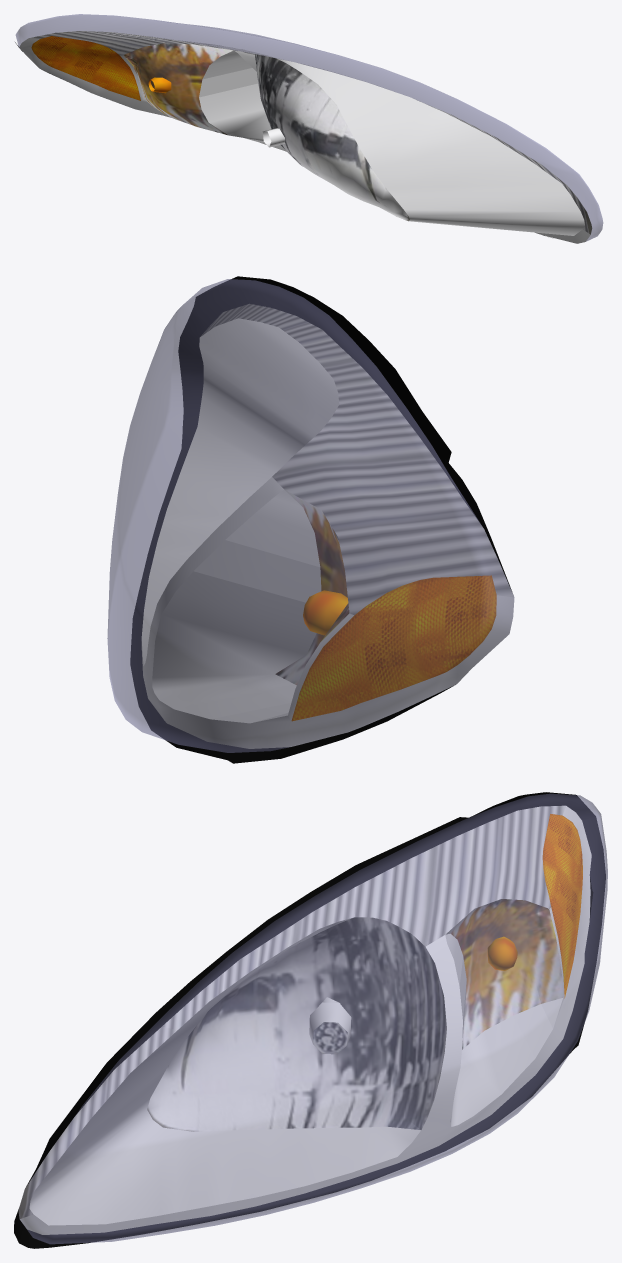
3 renders of one model, top to bottom at view 1: azimuth 30°, elevation 25°; view 2: azimuth 150°, elevation 25°; view 3: azimuth 270°, elevation 25°, orthographic. The views are drawn at different scales.
Visible parts, largest first — view 1: P353_20_061B_L_P353_20_061B_L_2_N, P353_20_061B_L_P353_20_061B_L_1_DTaSI; view 2: P353_20_061B_L_P353_20_061B_L_1_DTaSI, P353_20_061B_L_P353_20_061B_L_2_N, P353_20_061B_L_3_D_P353_20_061B_L; view 3: P353_20_061B_L_P353_20_061B_L_1_DTaSI, P353_20_061B_L_P353_20_061B_L_2_N, P353_20_061B_L_3_D_P353_20_061B_L.
Part boxes in pixels (<box>): P353_20_061B_L_P353_20_061B_L_2_N: <box>19,31,592,243</box>; P353_20_061B_L_P353_20_061B_L_1_DTaSI: <box>15,14,603,241</box>; P353_20_061B_L_P353_20_061B_L_1_DTaSI: <box>107,279,514,752</box>; P353_20_061B_L_P353_20_061B_L_2_N: <box>141,304,514,748</box>; P353_20_061B_L_3_D_P353_20_061B_L: <box>130,276,512,763</box>; P353_20_061B_L_P353_20_061B_L_1_DTaSI: <box>18,793,607,1244</box>; P353_20_061B_L_P353_20_061B_L_2_N: <box>18,805,591,1234</box>; P353_20_061B_L_3_D_P353_20_061B_L: <box>14,792,605,1248</box>.
Bounding box in the file's own units: 42.7 × 19.97 × 43.57.
